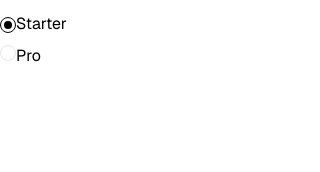
RadioGroup › selects an option
This screenshot has width=320, height=172.
Click the radio button named "Pro" next to "Pro".
click(8, 53)  # box [0,45,16,61]
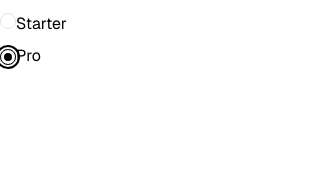
Result: the radio button named "Pro" next to "Pro" is checked at [0,49,16,65]
